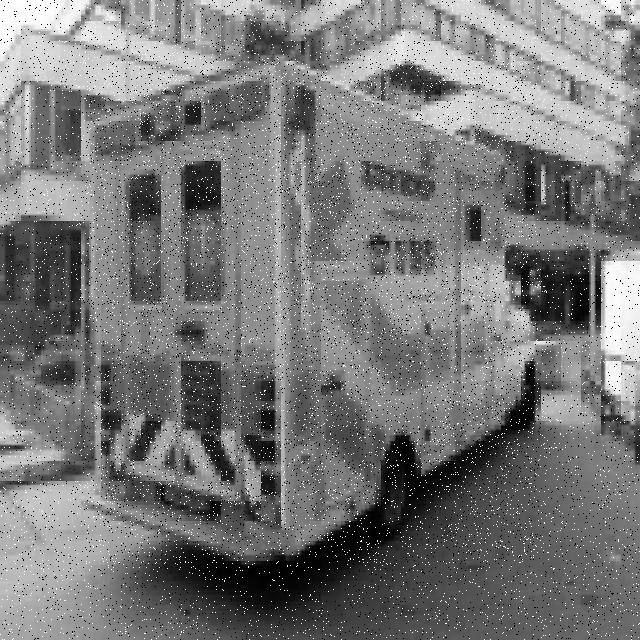Ambulance: (86, 58, 540, 568)
